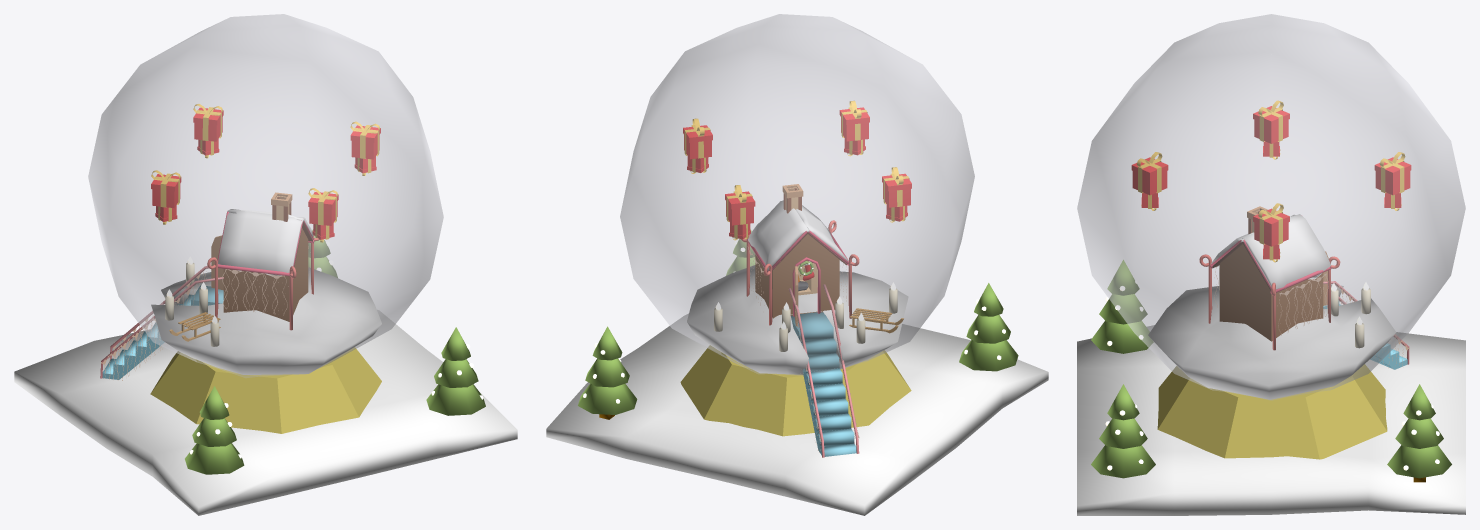
File: xmasBall.glb
3 views of the same model, side by side, from view 1: azimuth 30°, elevation 25°; view 2: azimuth 150°, elevation 25°; view 3: azimuth 270°, elevation 25° (orthographic). The views are drawn at different scales.
Parts seen in each view (by area): view 1: Sphere.132, ground.001, neigeboule.001, socle.001, neige.003, maison.001, sapin.006, sapin.007, Cube.032, Cube.003, Cube.002, Cube.004 (+5 smaller); view 2: Sphere.132, ground.001, neigeboule.001, socle.001, Cube.032, maison.001, sapin.004, sapin.006, neige.002, Cube.003, Cube.031, Cube.002 (+3 smaller); view 3: Sphere.132, ground.001, neigeboule.001, socle.001, maison.001, sapin.004, sapin.007, sapin.006, neige.002, Cube.002, Cube.003, Cube.004 (+3 smaller).
Boxes of the visible parts, box(x1,y1,x2,y2) form: Sphere.132: box(88, 14, 443, 377); ground.001: box(14, 310, 517, 515); neigeboule.001: box(151, 267, 381, 374); socle.001: box(150, 347, 381, 433); neige.003: box(218, 211, 303, 276); maison.001: box(223, 228, 308, 321); sapin.006: box(185, 386, 244, 474); sapin.007: box(426, 327, 485, 415); Cube.032: box(102, 285, 223, 379); Cube.003: box(308, 188, 338, 242); Cube.002: box(193, 104, 223, 158); Cube.004: box(350, 121, 380, 175); Sphere.132: box(620, 14, 974, 375); ground.001: box(546, 313, 1048, 515); neigeboule.001: box(687, 265, 908, 374); socle.001: box(680, 345, 911, 436); Cube.032: box(791, 312, 856, 456); maison.001: box(755, 234, 839, 318); sapin.004: box(578, 326, 637, 419); sapin.006: box(959, 283, 1018, 371); neige.002: box(748, 200, 809, 270); Cube.003: box(839, 100, 869, 156); Cube.031: box(882, 167, 911, 222); Cube.002: box(725, 185, 755, 240); Sphere.132: box(1077, 14, 1465, 400); ground.001: box(1077, 325, 1465, 515); neigeboule.001: box(1148, 284, 1396, 399); socle.001: box(1157, 364, 1387, 459); maison.001: box(1219, 244, 1323, 341); sapin.004: box(1387, 384, 1451, 482); sapin.007: box(1091, 384, 1155, 478); sapin.006: box(1091, 260, 1153, 353); neige.002: box(1242, 214, 1331, 289); Cube.002: box(1374, 152, 1411, 210); Cube.003: box(1131, 152, 1168, 210); Cube.004: box(1253, 203, 1289, 262).
Size of what is drawn, in the model's own units: 16 by 18.53 by 16.
Materials: 6 (3 with a texture image).
